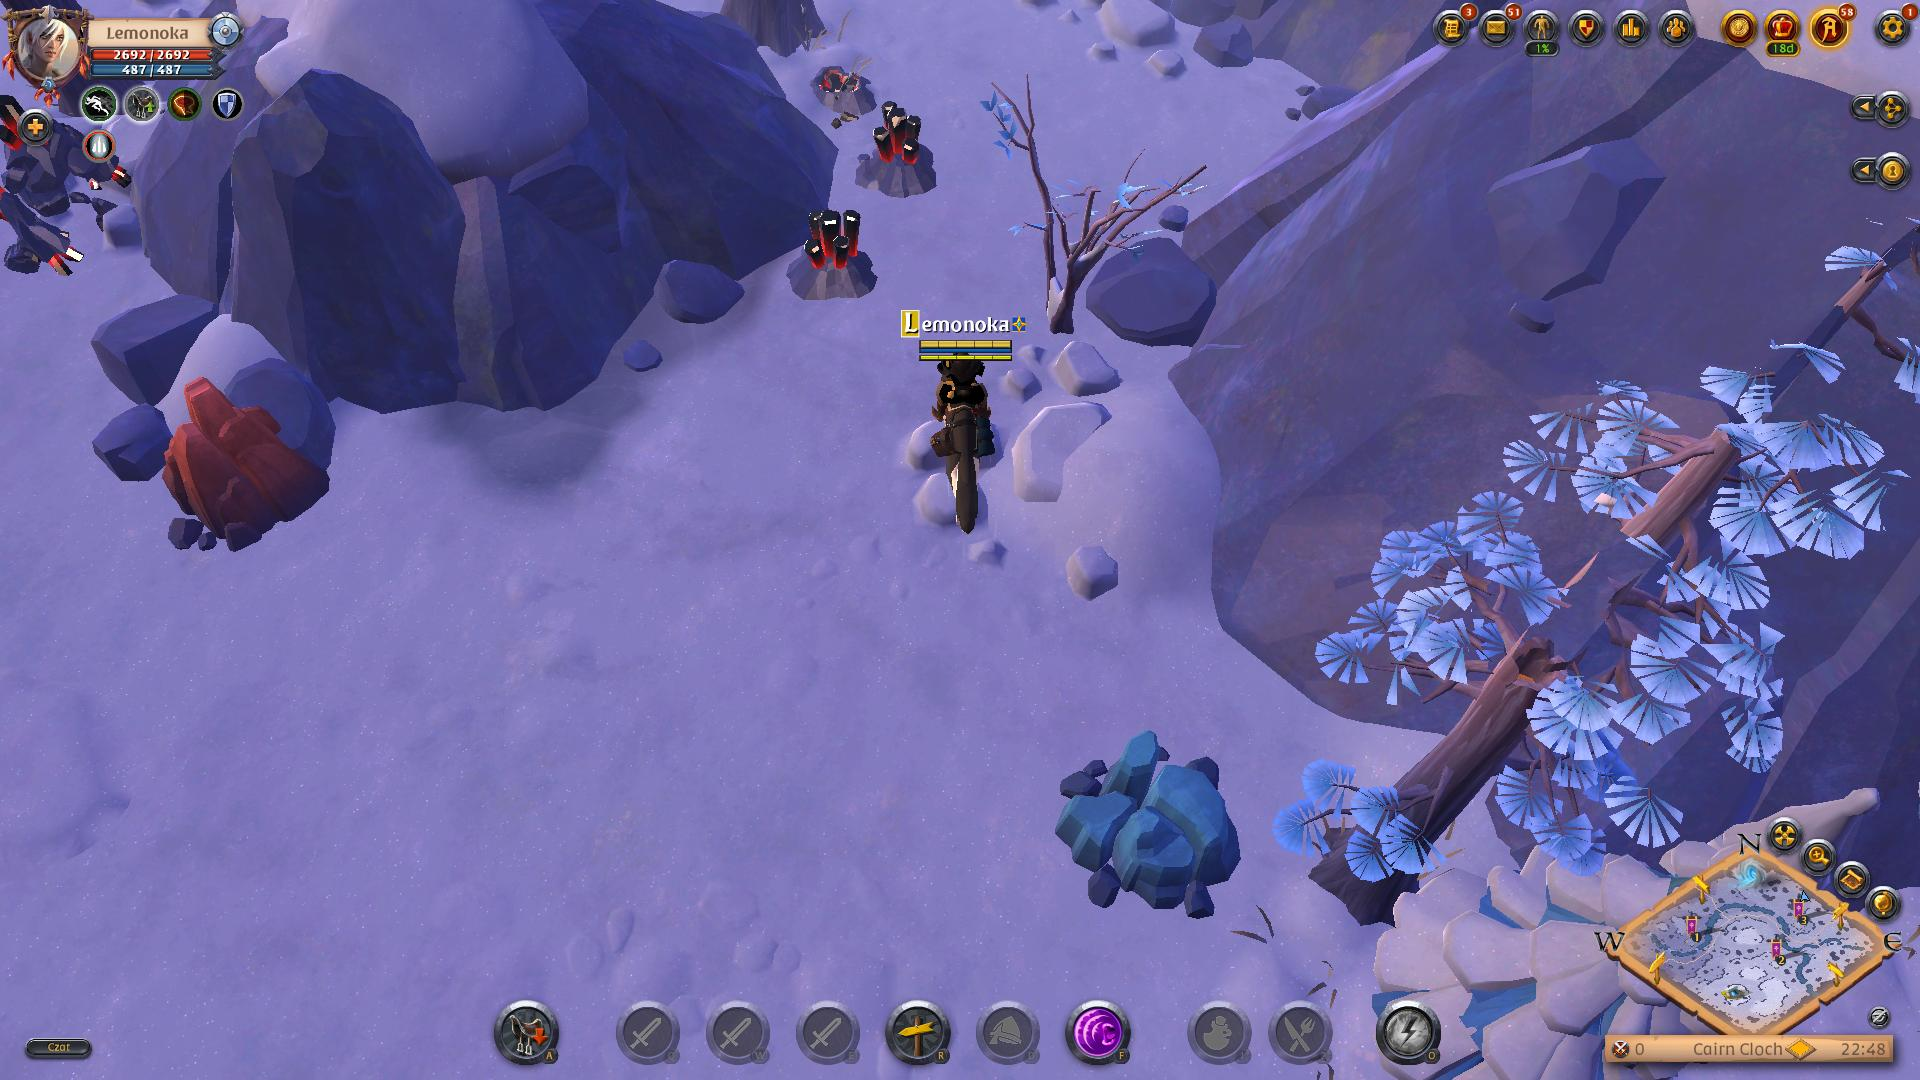ore tier 5: (782, 198, 885, 305), (857, 98, 951, 207)
rock tier 4: (1055, 735, 1246, 918)
rock tier 5: (152, 371, 342, 562)
